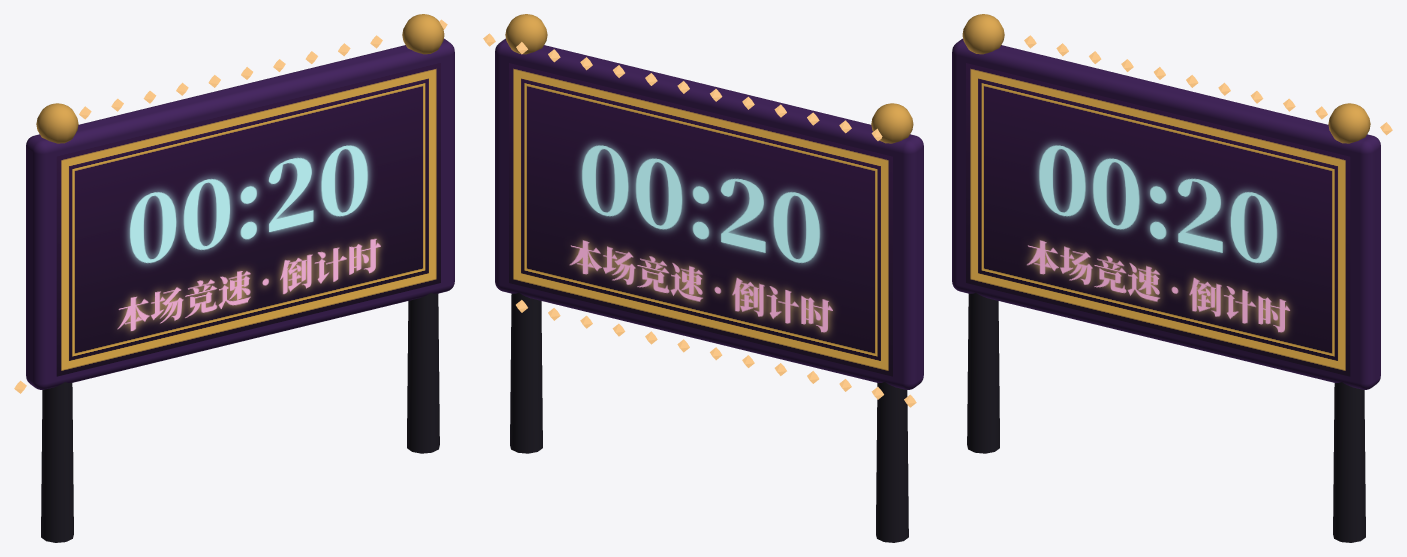
File: B01_CountdownBoard.glb
3 renders of one model, left to right at view 1: azimuth 30°, elevation 25°; view 2: azimuth 150°, elevation 25°; view 3: azimuth 330°, elevation 25°, orthographic.
Parts seen in each view (by area): view 1: B01_CountdownBoard; view 2: B01_CountdownBoard; view 3: B01_CountdownBoard.
Boxes of the visible parts, <box> form: B01_CountdownBoard: <box>14,14,454,542</box>; B01_CountdownBoard: <box>483,14,923,542</box>; B01_CountdownBoard: <box>952,14,1392,542</box>.
Bounding box in the file's own units: 1 × 0.9494 × 0.0949.
Materials: 6 (2 with a texture image).
